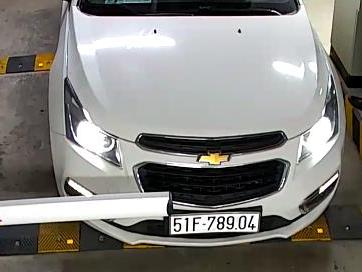number: (170, 212, 260, 234)
